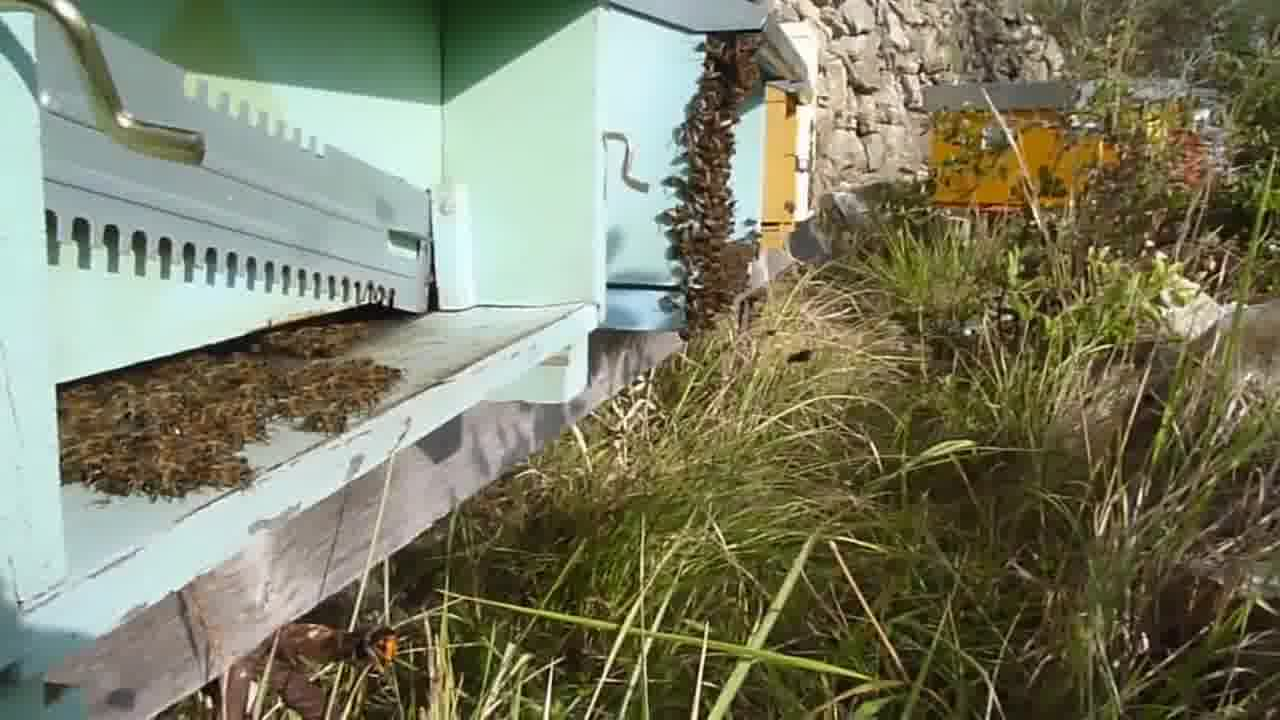bee: (270, 356, 400, 428), (133, 420, 260, 491), (150, 351, 267, 418), (60, 382, 129, 488), (265, 315, 373, 356)
hornet: (312, 624, 417, 679)
